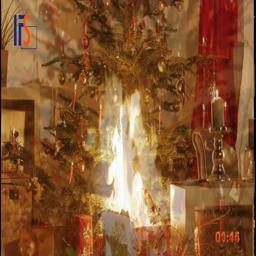fire: (98, 89, 172, 224)
